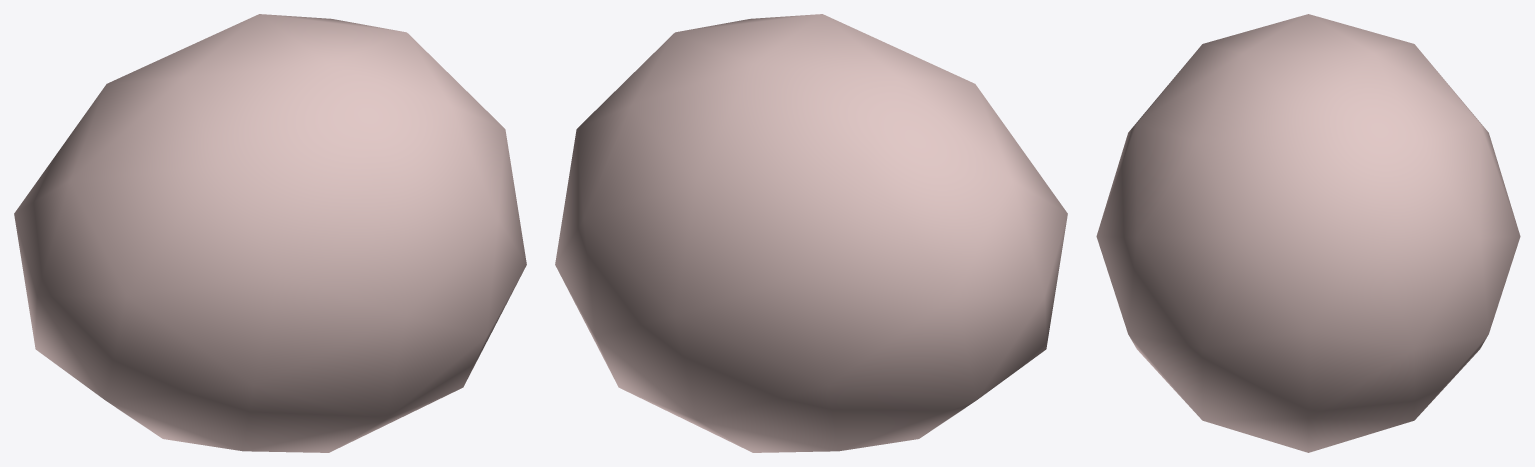
Rendered from egg.fbx.
The picture shows the model from 3 angles, left to right: view 1: azimuth 30°, elevation 25°; view 2: azimuth 150°, elevation 25°; view 3: azimuth 270°, elevation 25°; orthographic projection. The views are drawn at different scales.
Parts seen in each view (by area): view 1: egg; view 2: egg; view 3: egg.
Part boxes in pixels (box(x1,y1,x2,y2)): egg: box(14, 14, 526, 452); egg: box(555, 14, 1067, 452); egg: box(1096, 14, 1520, 452).
Bounding box in the file's own units: 0.2367 × 0.1897 × 0.1995.
